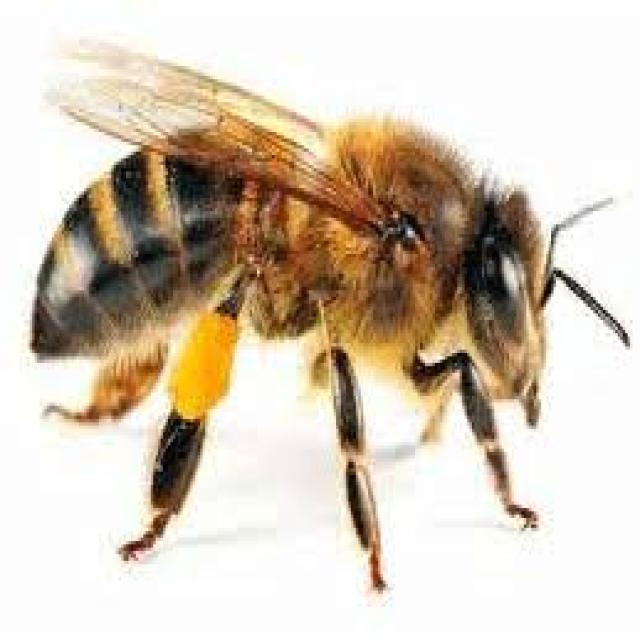Bees: (30, 31, 632, 600)
